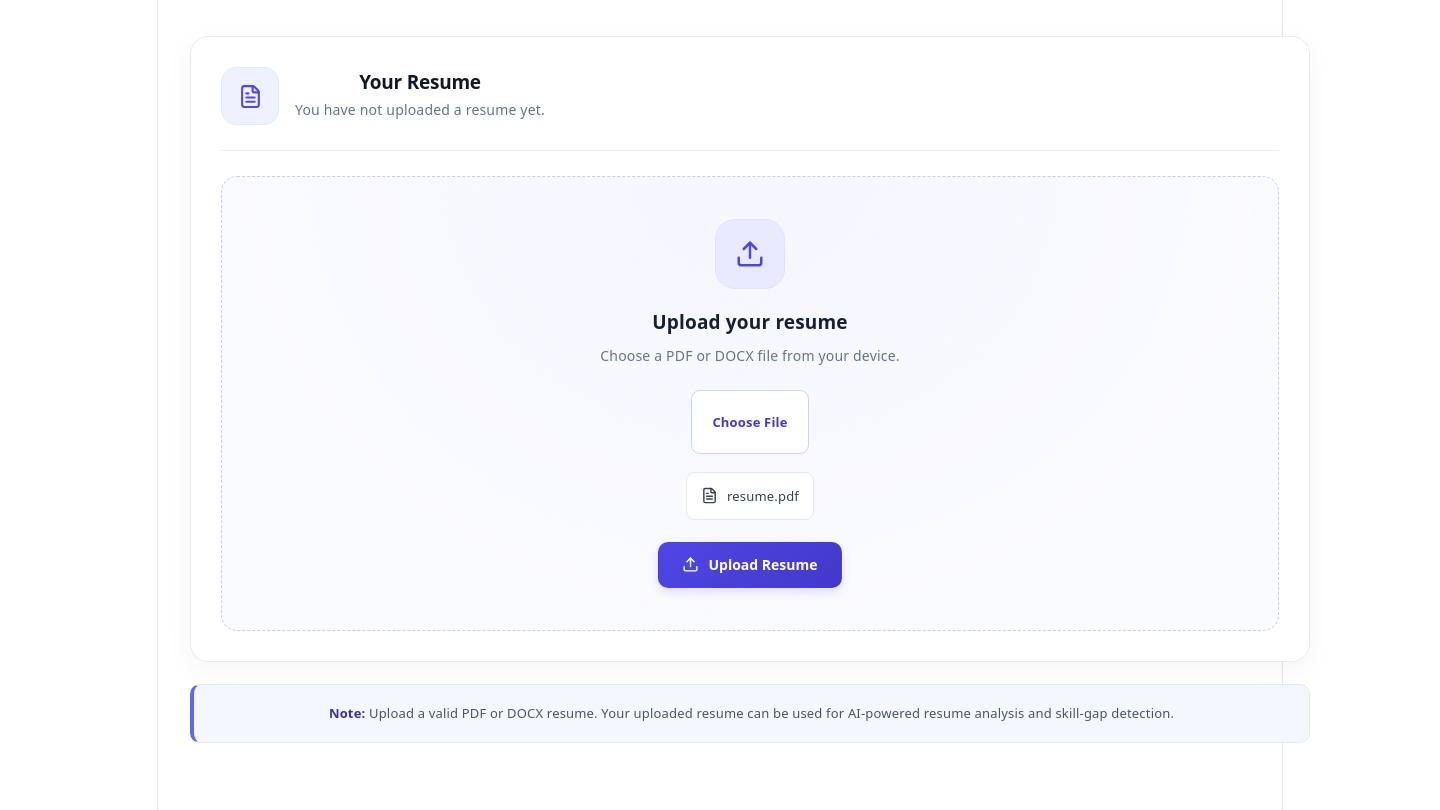
ResumeManagement › uploads a PDF resume successfully
Earlier steps of the test are not shown.
Expected: the text "resume.pdf" is shown, x1=727 y1=483 x2=799 y2=509
Click the button "Upload Resume": (750, 565) x1=658 y1=542 x2=842 y2=588
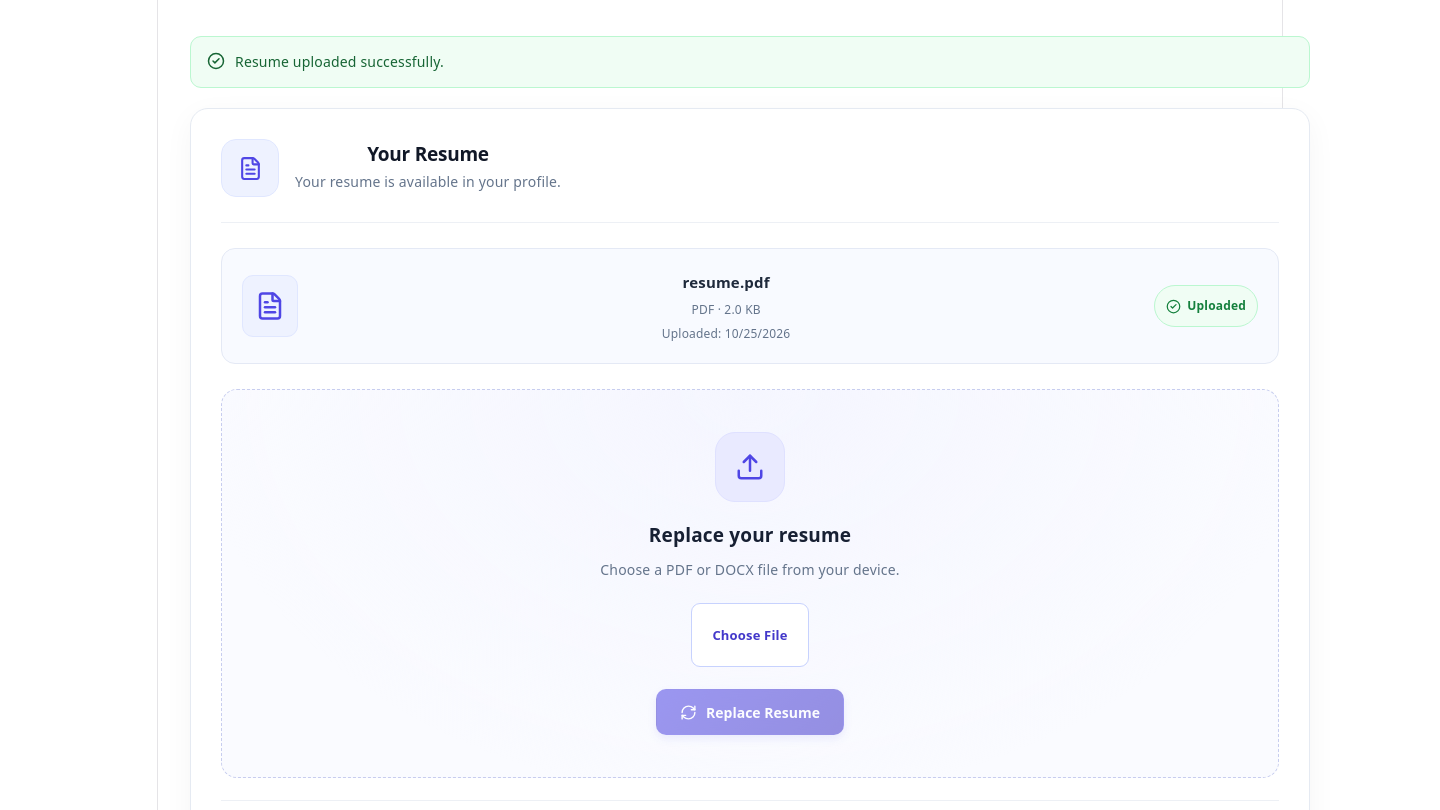
Expected: the text "Resume uploaded successfully." is shown, x1=235 y1=51 x2=444 y2=73
